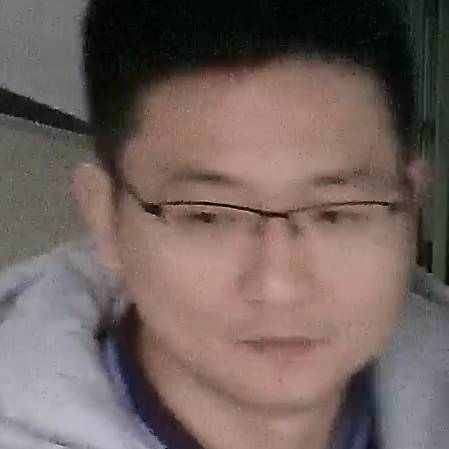gg: (73, 28, 440, 395)
